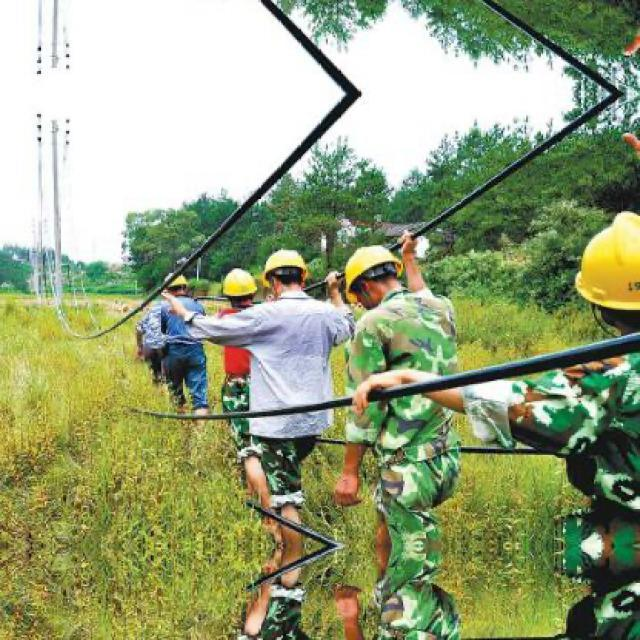helmet: (578, 205, 637, 339), (336, 238, 406, 308), (256, 245, 310, 298), (220, 266, 256, 308), (155, 262, 191, 299)
